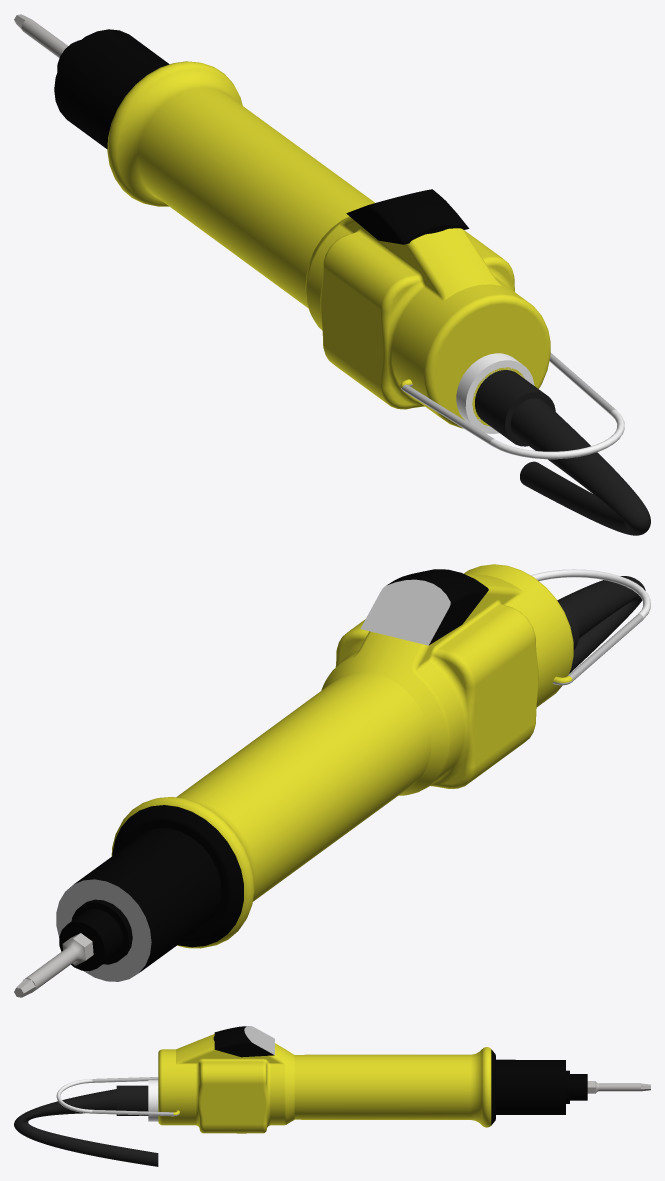
Rendered from screwdriver.obj.
3 views of the same model, one above another, from view 1: azimuth 30°, elevation 25°; view 2: azimuth 150°, elevation 25°; view 3: azimuth 270°, elevation 25° (orthographic). The views are drawn at different scales.
Visible parts, largest first — view 1: Solid2, Solid1, Solid1:1; view 2: Solid2, Solid1, Solid1:1; view 3: Solid2, Solid1, Solid1:1.
Boxes of the visible parts, box(x1,y1,x2,y2) form: Solid2: box(54, 29, 624, 459); Solid1: box(456, 353, 650, 535); Solid1:1: box(14, 14, 67, 57); Solid2: box(56, 564, 650, 981); Solid1: box(557, 576, 645, 673); Solid1:1: box(14, 933, 93, 997); Solid2: box(56, 1026, 587, 1133); Solid1: box(14, 1080, 158, 1166); Solid1:1: box(587, 1081, 650, 1093).
Size of the model in its own units: 0.045 by 0.0704 by 0.3225.
